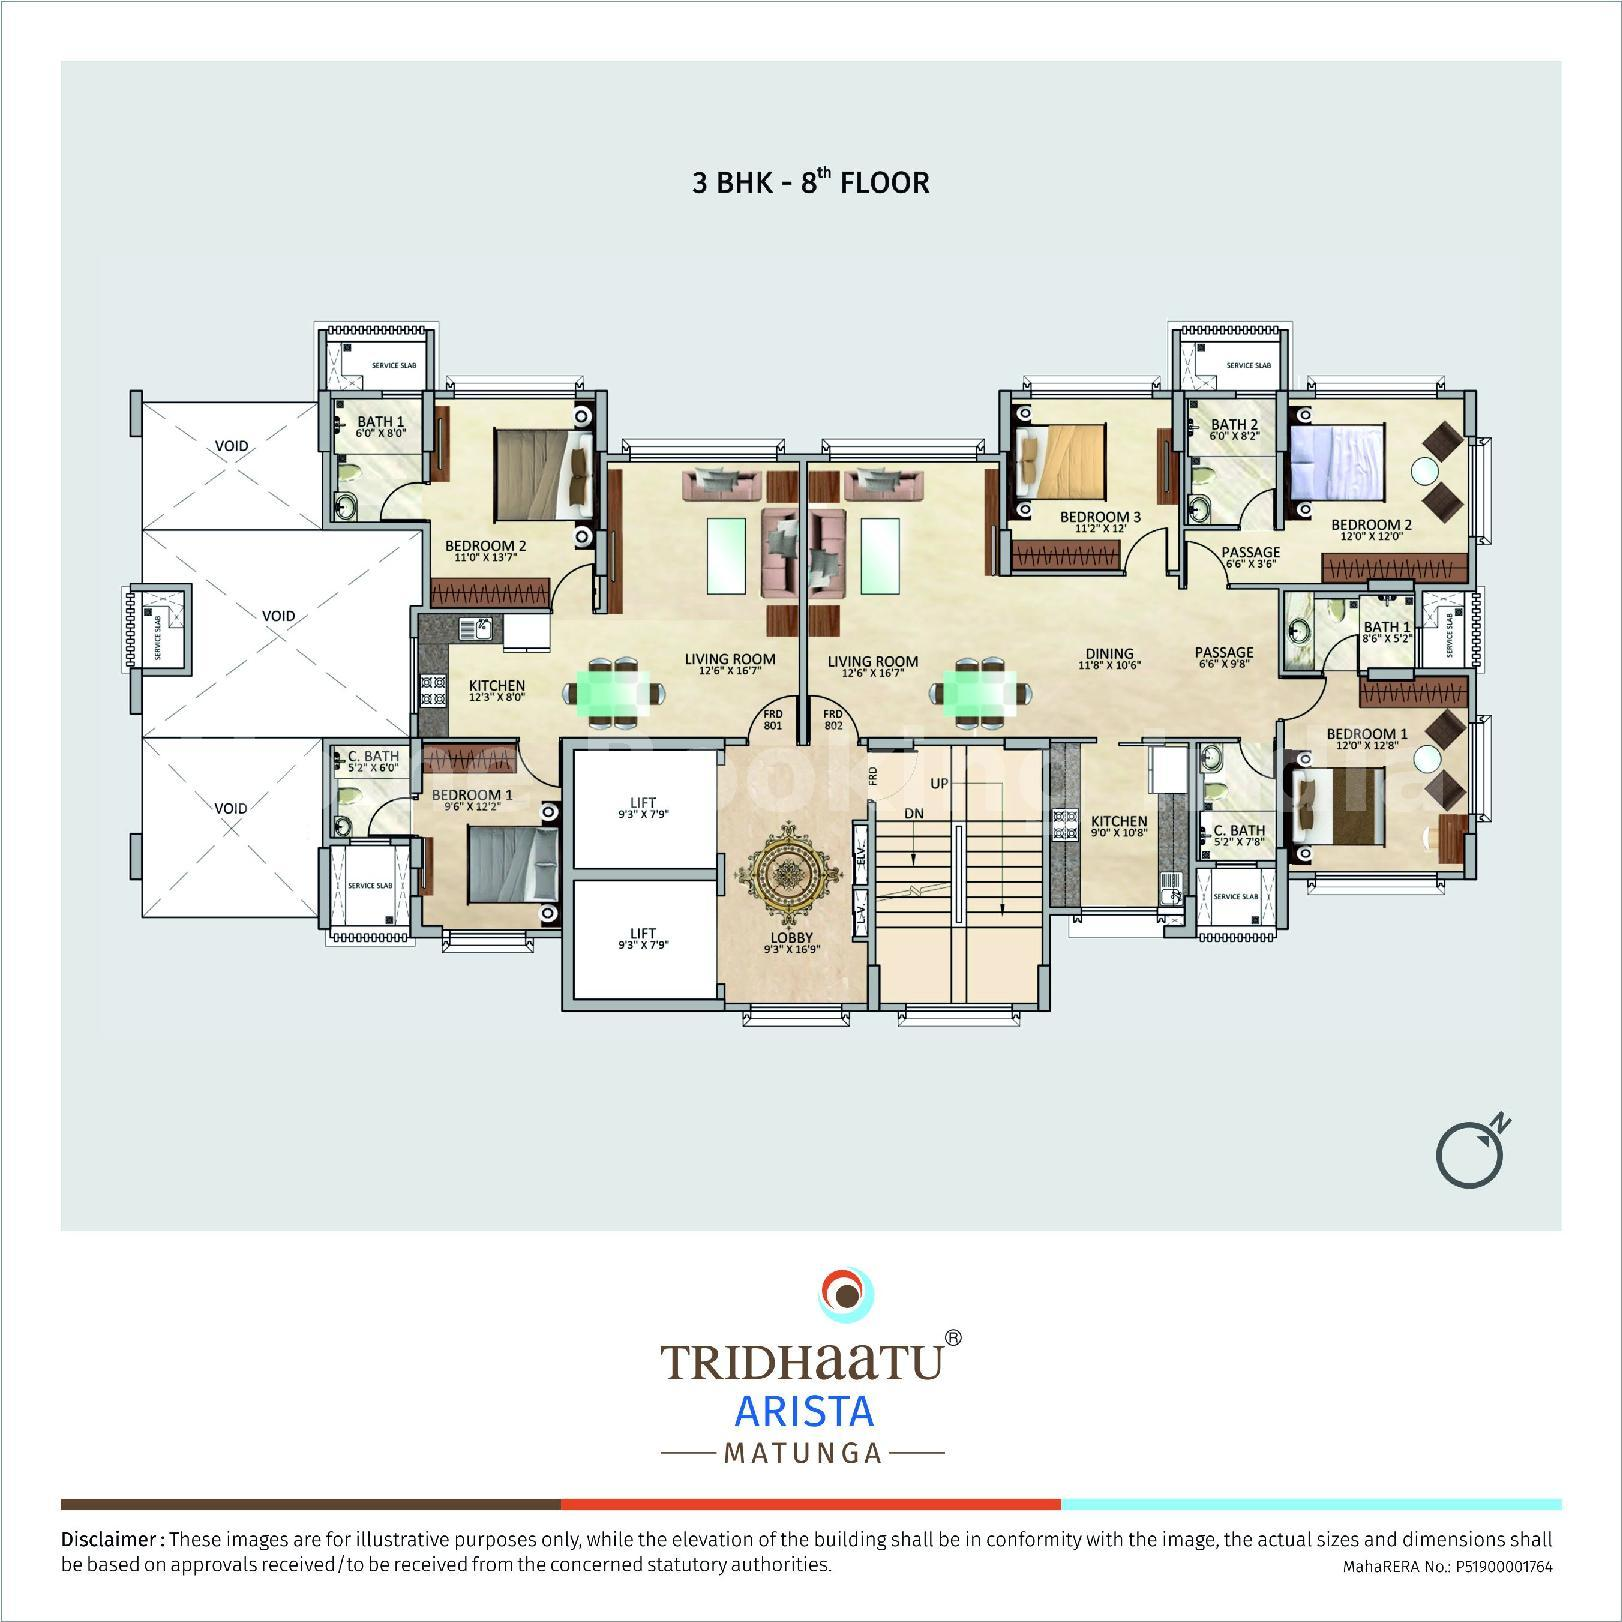door: (747, 695, 801, 740), (518, 743, 564, 792), (807, 694, 859, 737), (1286, 676, 1332, 722), (1231, 480, 1277, 523), (365, 798, 411, 841), (1184, 541, 1228, 584), (1126, 524, 1170, 567), (551, 563, 596, 606), (377, 483, 423, 524), (1320, 631, 1359, 670), (1240, 741, 1276, 780)
